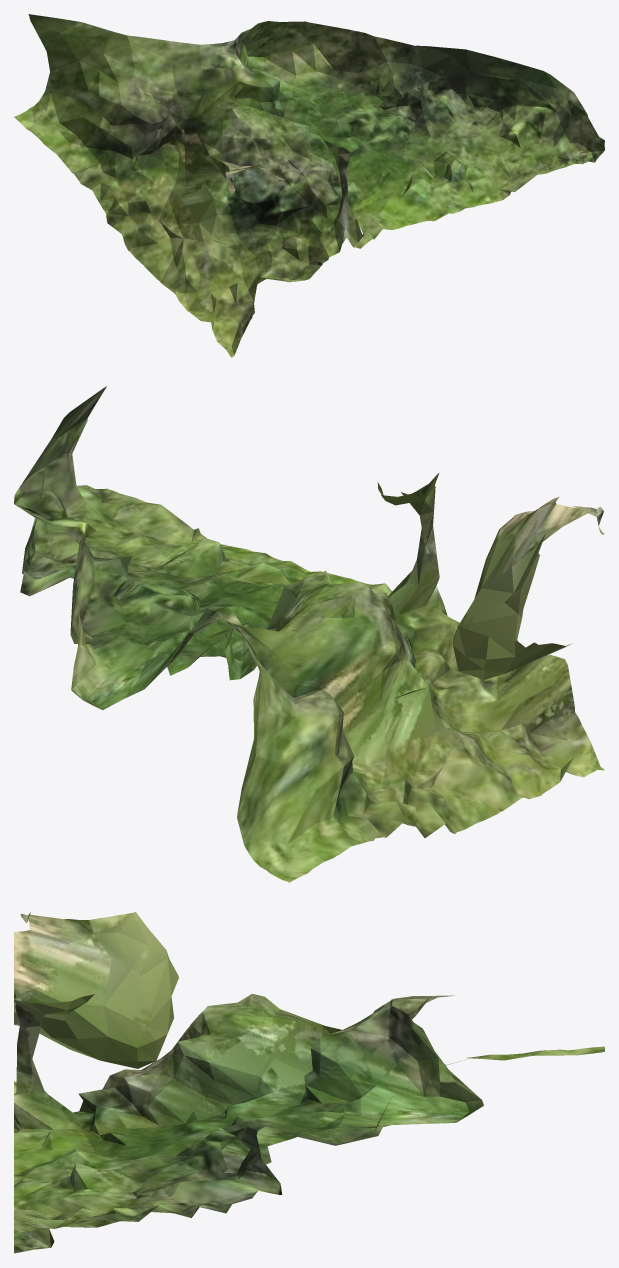
3 views of the same model, one above another, from view 1: azimuth 30°, elevation 25°; view 2: azimuth 150°, elevation 25°; view 3: azimuth 270°, elevation 25° (orthographic). The views are drawn at different scales.
Size of the model in its own units: 25.88 by 11.99 by 26.11.
3 materials, 3 textured.
